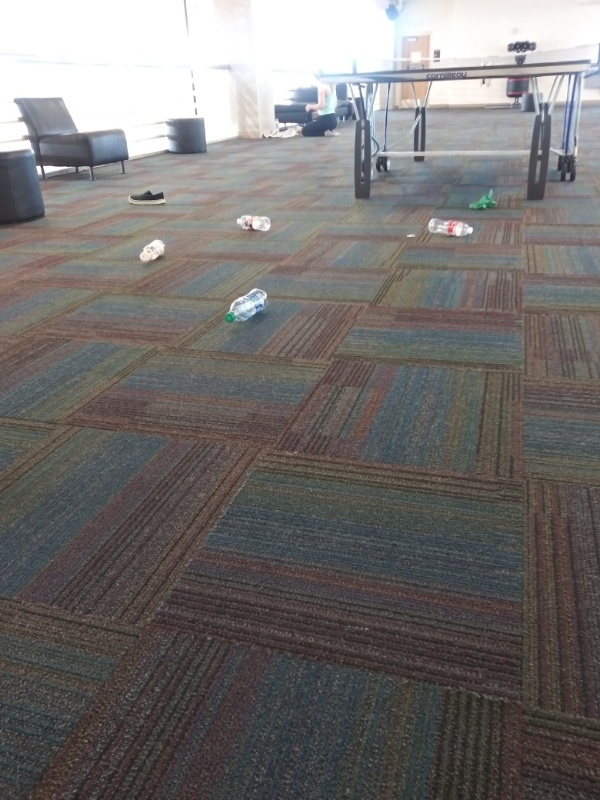bottle: (223, 287, 273, 330), (425, 214, 477, 241), (233, 211, 275, 234), (136, 236, 168, 266)
